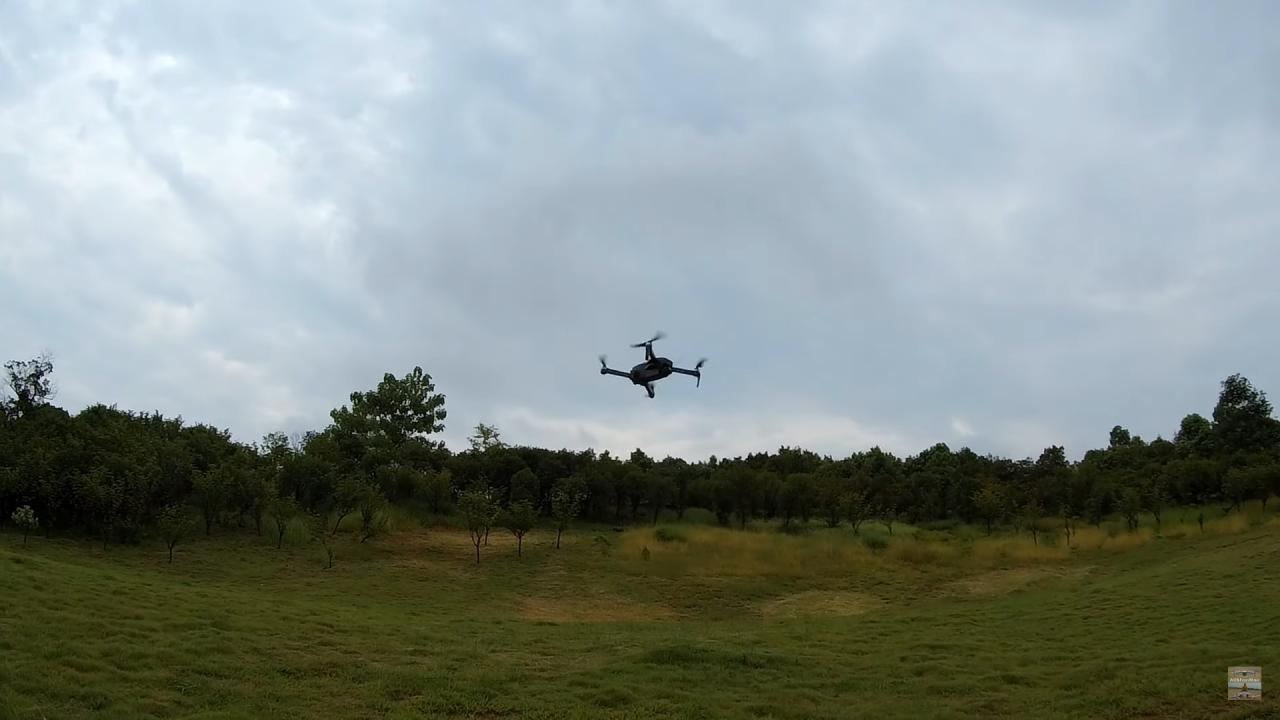Drone: (584, 324, 719, 408)
